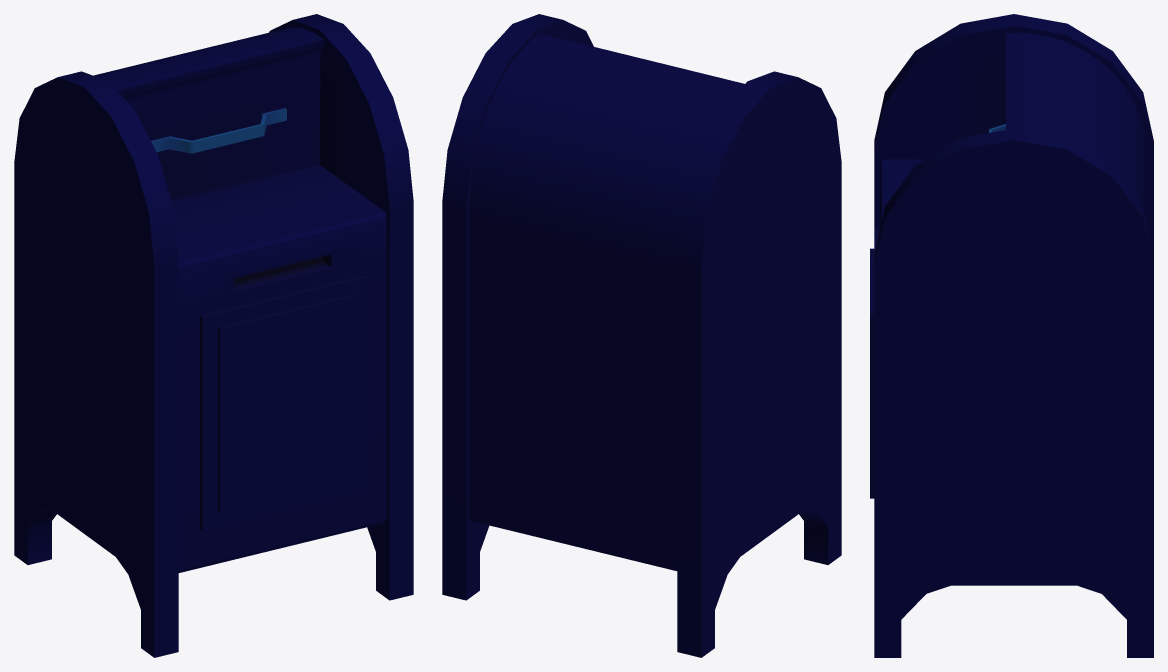
Rendered from Mailbox_Medium.fbx.
3 renders of one model, left to right at view 1: azimuth 30°, elevation 25°; view 2: azimuth 150°, elevation 25°; view 3: azimuth 270°, elevation 25°, orthographic.
Visible parts, largest first — view 1: Mailbox_Medium; view 2: Mailbox_Medium; view 3: Mailbox_Medium.
Part boxes in pixels (x1=…): Mailbox_Medium: x1=14, y1=14, x2=413, y2=657; Mailbox_Medium: x1=442, y1=14, x2=841, y2=657; Mailbox_Medium: x1=870, y1=14, x2=1153, y2=657.
Bounding box in the file's own units: 53.24 × 102 × 50.6.
